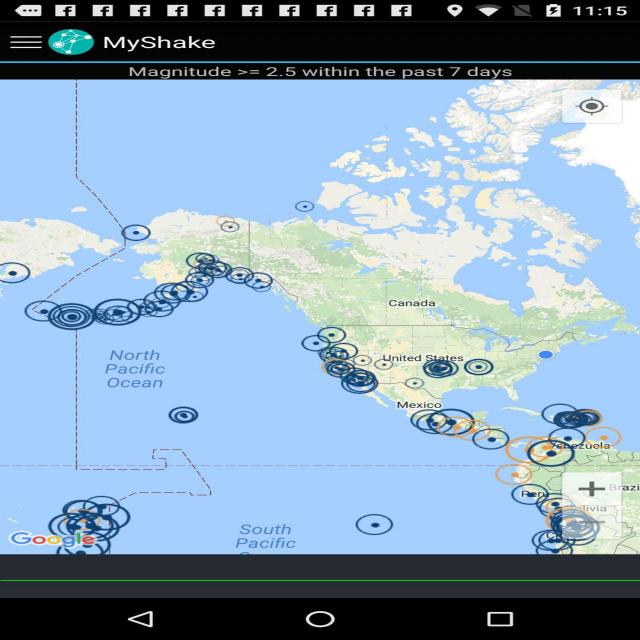button: (548, 87, 631, 124), (0, 28, 53, 57)
icon: (562, 507, 617, 540), (559, 90, 617, 118), (555, 466, 605, 495)
image: (0, 80, 636, 556), (49, 27, 103, 59)
text: (122, 64, 525, 84), (94, 344, 174, 401), (103, 33, 232, 55), (14, 525, 103, 549), (238, 517, 292, 551), (379, 349, 478, 367), (386, 296, 454, 312), (550, 437, 610, 452), (389, 397, 438, 415), (612, 466, 634, 500), (515, 482, 540, 497)
